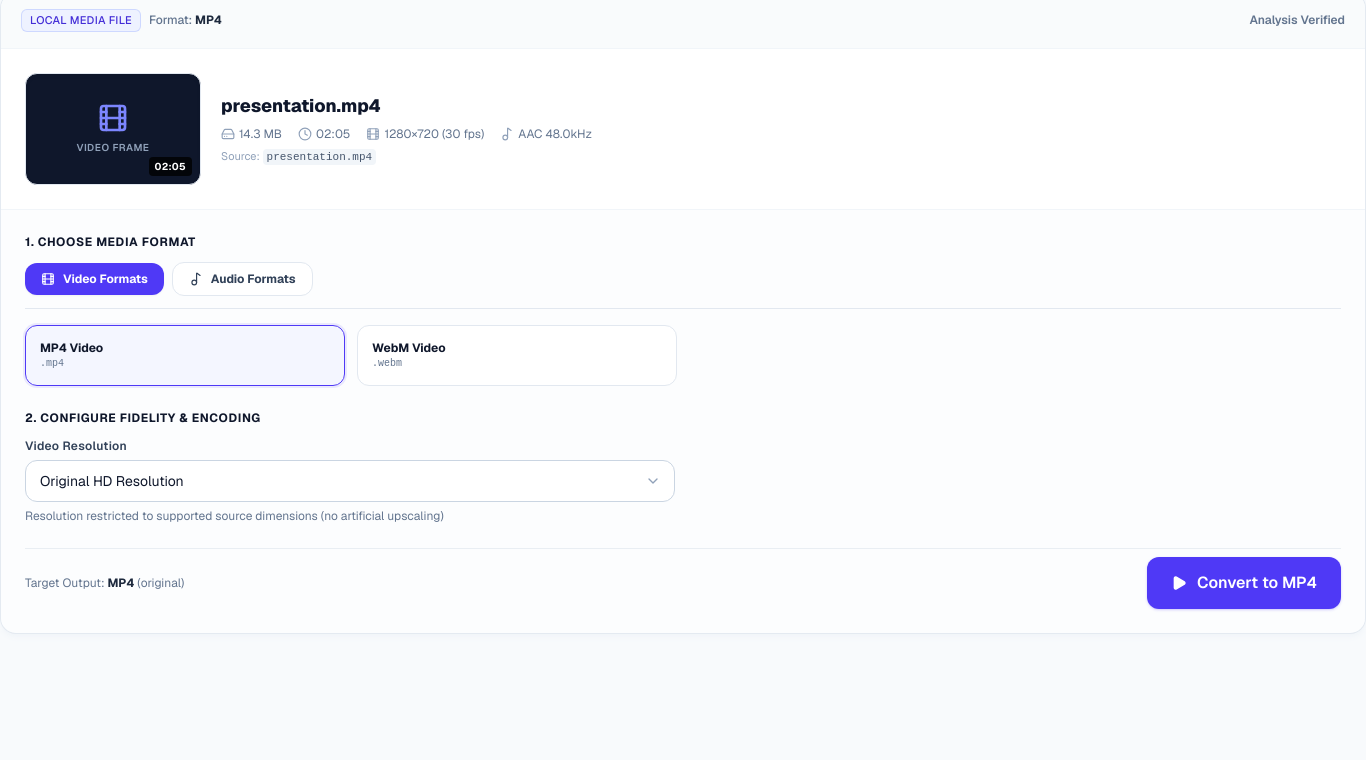
Test: MediaResultCard UI State Machine › displays actionable error message when job fails
The width and height of the screenshot is (1366, 760).
Click the button "Convert to MP4". click: (1244, 582)
box: [1147,556,1341,608]
(page scrolled)
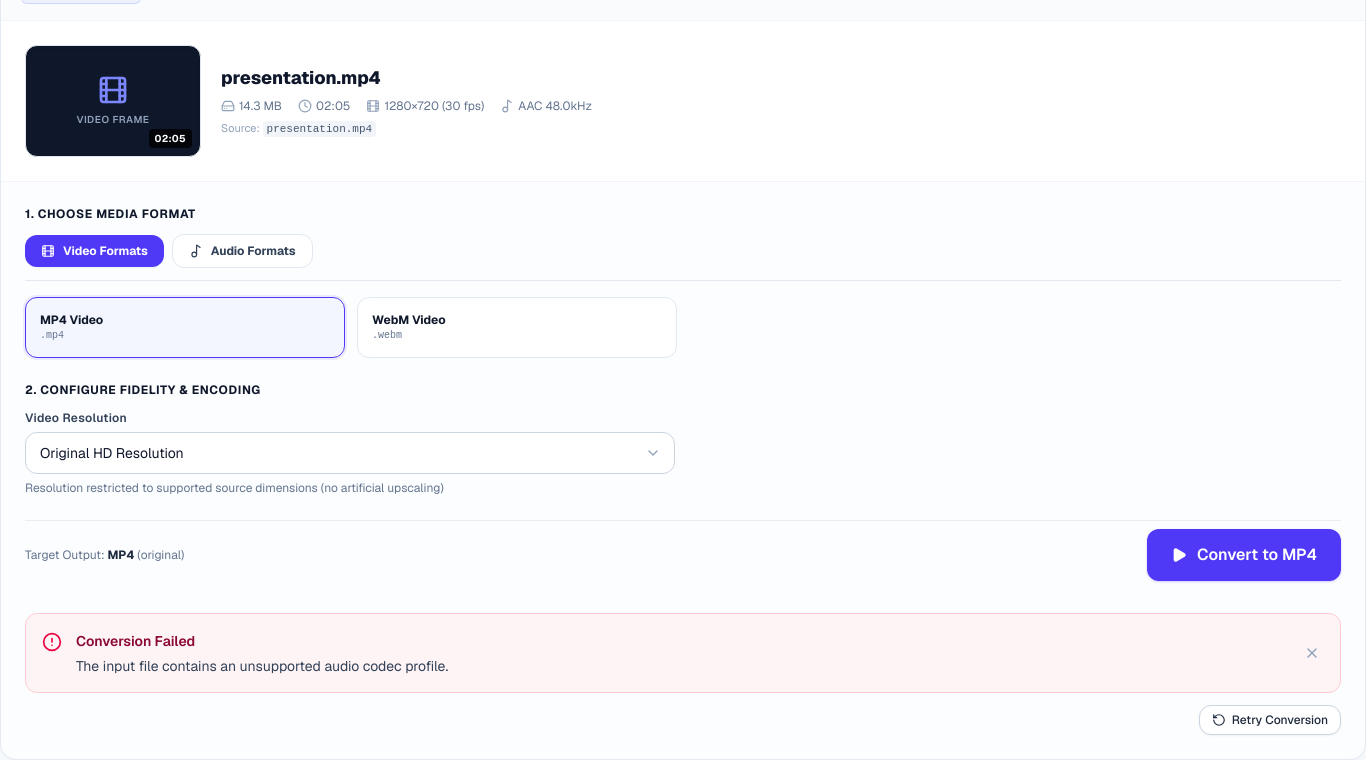
Expected: the text "The input file contains an unsupported audio codec profile." is shown, [76,657,448,675]
Expected: the button "Retry Conversion" is shown, [1199,705,1341,735]
